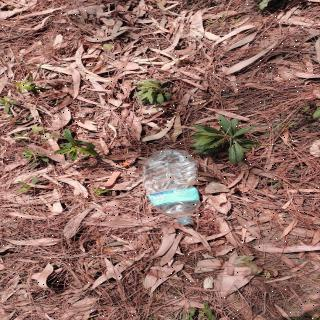Plastic-bottle: (141, 148, 208, 230)
